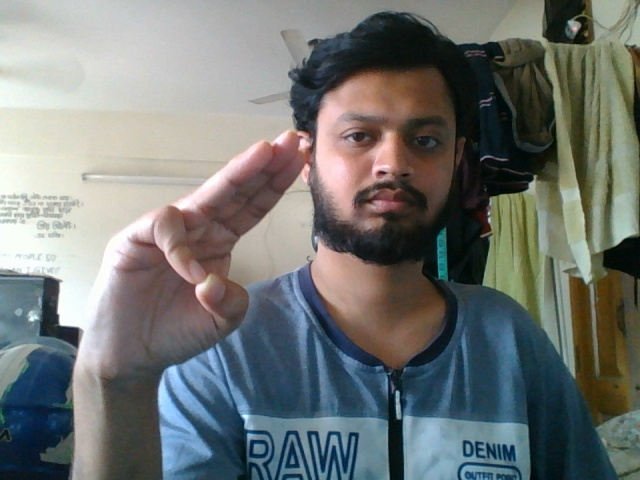ma: (83, 114, 306, 396)
